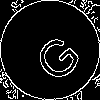G: (25, 25, 85, 86)
